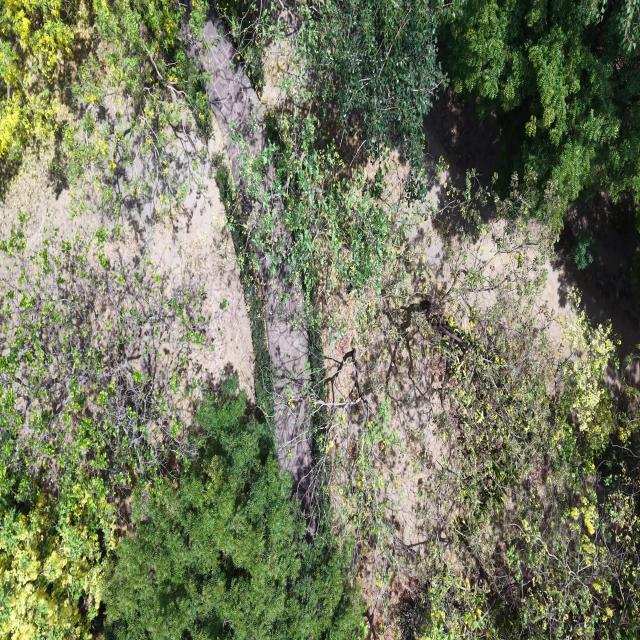DRY_AREA: (0, 131, 254, 549), (0, 21, 262, 401), (324, 212, 512, 638), (0, 121, 254, 434), (325, 217, 500, 637), (0, 154, 254, 421), (324, 292, 448, 638), (326, 297, 448, 573), (325, 292, 447, 550), (325, 291, 447, 549), (326, 297, 446, 554), (149, 171, 254, 401), (543, 193, 639, 361), (550, 193, 639, 361), (258, 256, 312, 512), (188, 20, 263, 179), (425, 91, 501, 189)
PATHWAYS: (259, 256, 312, 516)
VEGETATION_TREE: (0, 0, 639, 639), (241, 117, 638, 638), (0, 219, 362, 638), (319, 185, 639, 638), (223, 0, 639, 229), (0, 219, 206, 639), (0, 219, 203, 637), (219, 0, 638, 201), (0, 219, 199, 638), (405, 305, 639, 638), (106, 379, 363, 639), (0, 226, 209, 498), (217, 0, 454, 170), (443, 0, 639, 201), (0, 0, 211, 178), (236, 112, 394, 313), (301, 0, 452, 169), (0, 433, 114, 639), (0, 2, 92, 173)
